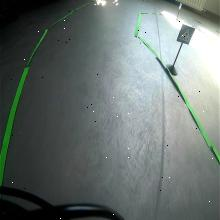crosswalk: (177, 24, 195, 45)
